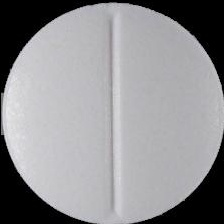67046-740: (0, 0, 224, 224)
